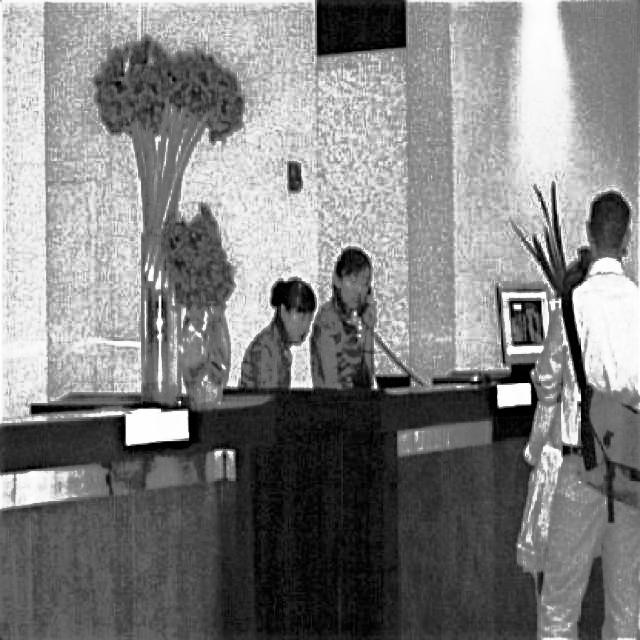Person: (527, 187, 638, 640), (309, 241, 382, 389), (236, 272, 319, 391)
